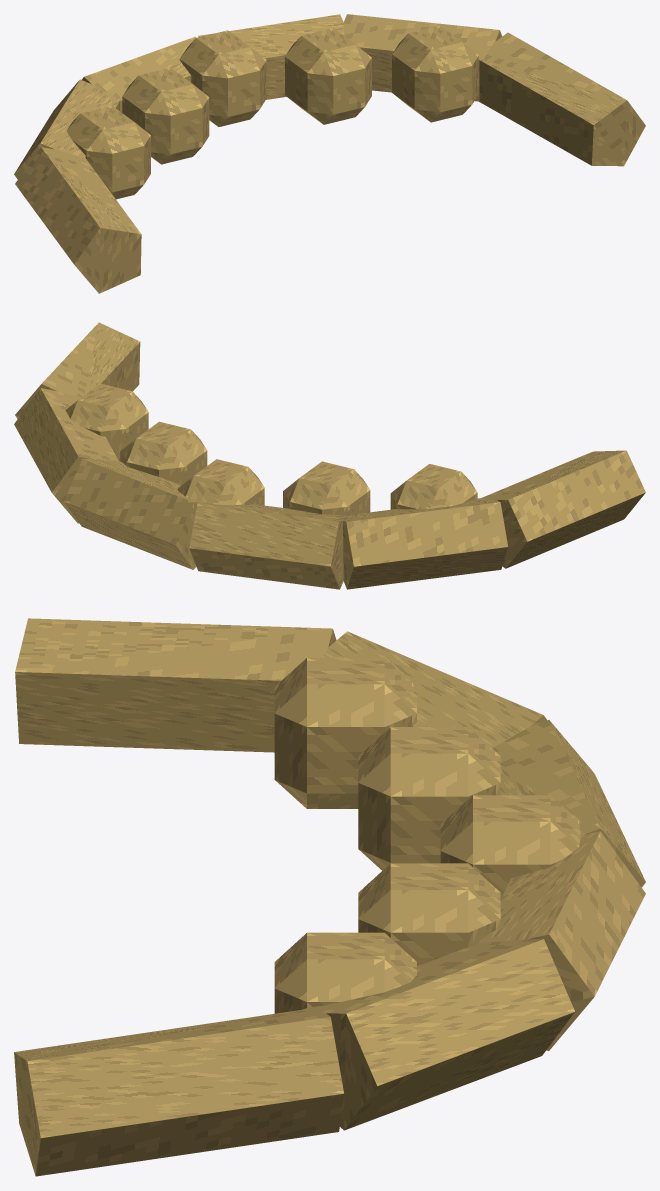
Rendered from gold_dental_grill.glb.
3 views of the same model, one above another, from view 1: azimuth 30°, elevation 25°; view 2: azimuth 150°, elevation 25°; view 3: azimuth 270°, elevation 25° (orthographic). The views are drawn at different scales.
Parts seen in each view (by area): view 1: block_tooth cap (×5), block_dental curve 5, block_dental curve 0, block_dental curve 4, block_dental curve 3, block_dental curve 1, block_dental curve 2; view 2: block_tooth cap (×5), block_dental curve 1, block_dental curve 2, block_dental curve 0, block_dental curve 3, block_dental curve 4, block_dental curve 5; view 3: block_tooth cap (×5), block_dental curve 5, block_dental curve 0, block_dental curve 4, block_dental curve 3, block_dental curve 2, block_dental curve 1.
Part boxes in pixels (box(x1,y1,x2,y2)): block_tooth cap (×5): box(66, 25, 478, 199); block_dental curve 5: box(479, 32, 645, 166); block_dental curve 0: box(15, 147, 141, 293); block_dental curve 4: box(343, 14, 502, 101); block_dental curve 3: box(198, 14, 344, 99); block_dental curve 1: box(14, 79, 119, 179); block_dental curve 2: box(82, 36, 196, 112); block_tooth cap (×5): box(65, 383, 477, 515); block_dental curve 1: box(343, 498, 508, 589); block_dental curve 2: box(189, 502, 343, 589); block_dental curve 0: box(482, 450, 645, 568); block_dental curve 3: box(64, 458, 200, 569); block_dental curve 4: box(14, 388, 118, 523); block_dental curve 5: box(15, 322, 140, 418); block_tooth cap (×5): box(274, 657, 580, 1013); block_dental curve 5: box(14, 1010, 344, 1176); block_dental curve 0: box(15, 618, 336, 752); block_dental curve 4: box(300, 938, 574, 1130); block_dental curve 3: box(479, 831, 645, 1050); block_dental curve 2: box(492, 720, 645, 887); block_dental curve 1: box(321, 631, 547, 748).
Bounding box in the file's own units: 0.0487 × 0.00703 × 0.0271.
1 material, 1 textured.
